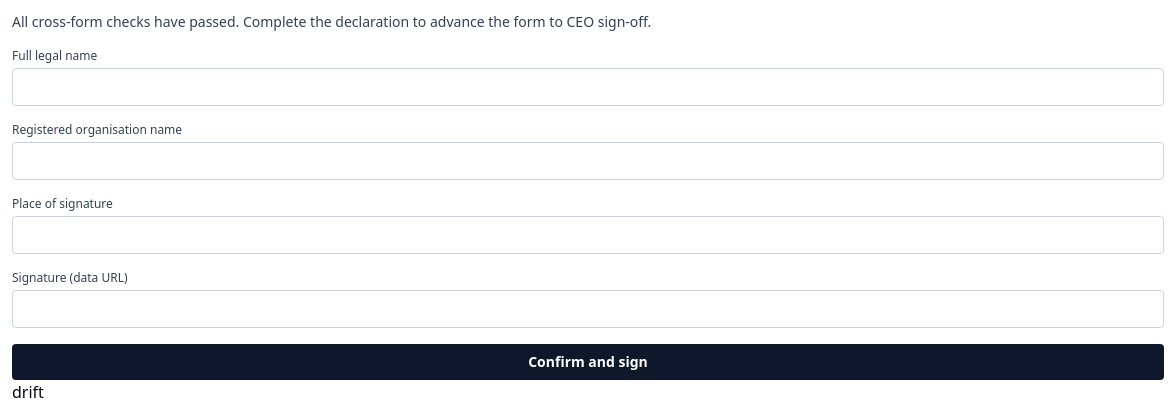
Test: DeclarationSection gate › unblocks with an aligned fixture and sets both statuses to pending_ceo on sign
The image size is (1176, 415).
Type "Jane Smith" into the field with test id "eea4-declaration-fullname" at (588, 87), box [12, 68, 1164, 106]
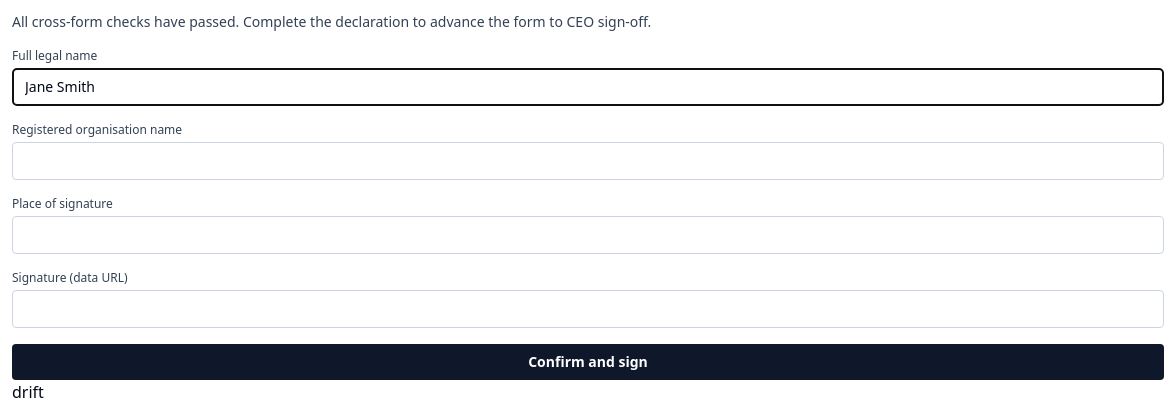
Type "Acme Corp" into the field with test id "eea4-declaration-organisation" at (588, 161), box [12, 142, 1164, 180]
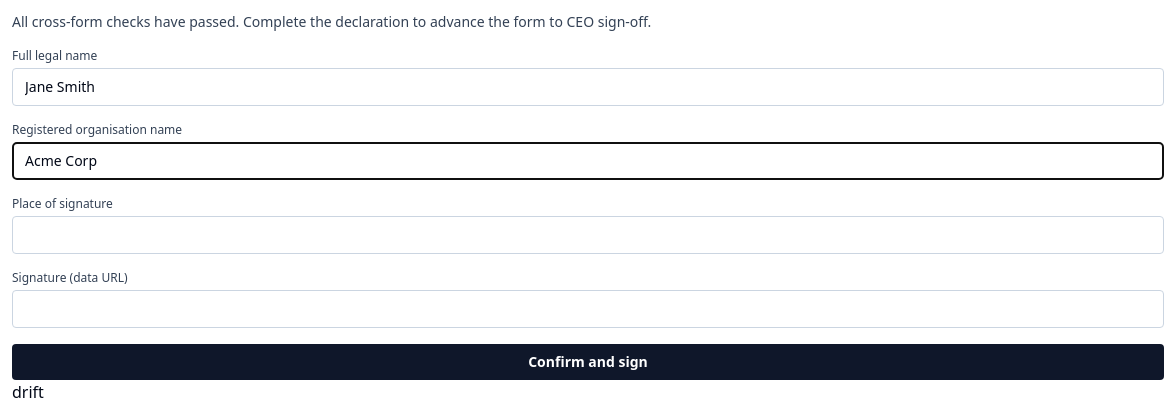
Type "Johannesburg" into the field with test id "eea4-declaration-place" at (588, 235), box [12, 216, 1164, 254]
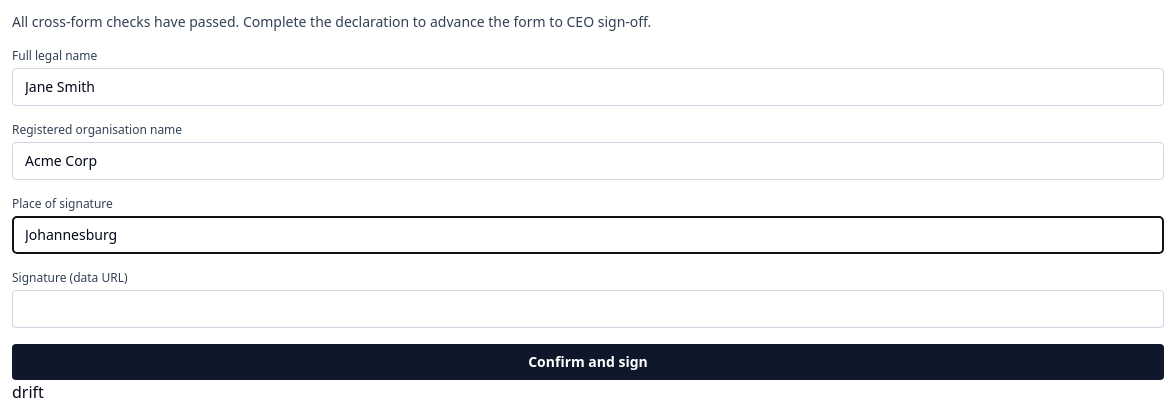
Type "d ata:image/png;base64,AAA" into the field with test id "eea4-declaration-signature" at (588, 309), box [12, 290, 1164, 328]
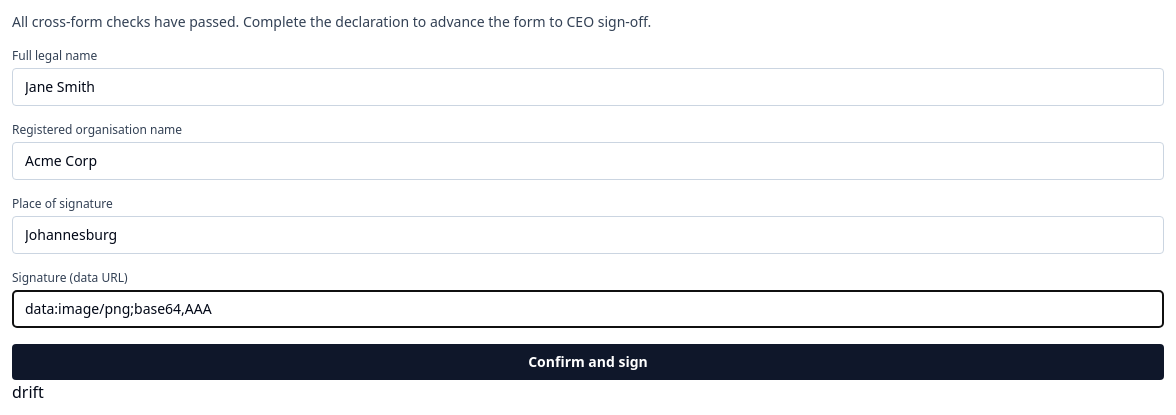
Click the button with test id "eea4-declaration-submit" at (588, 362), box [12, 344, 1164, 380]
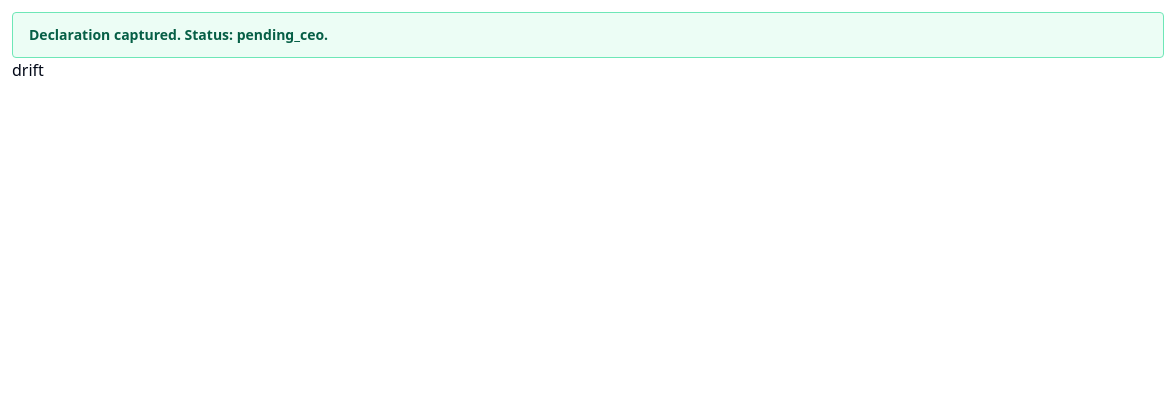
expect the element with test id "eea4-declaration-signed" shows "pending_ceo": met, box [237, 25, 324, 44]
